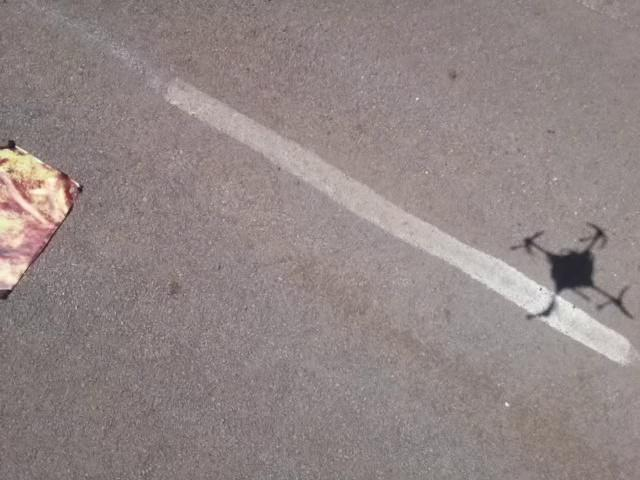fire-poster: (0, 137, 84, 302)
